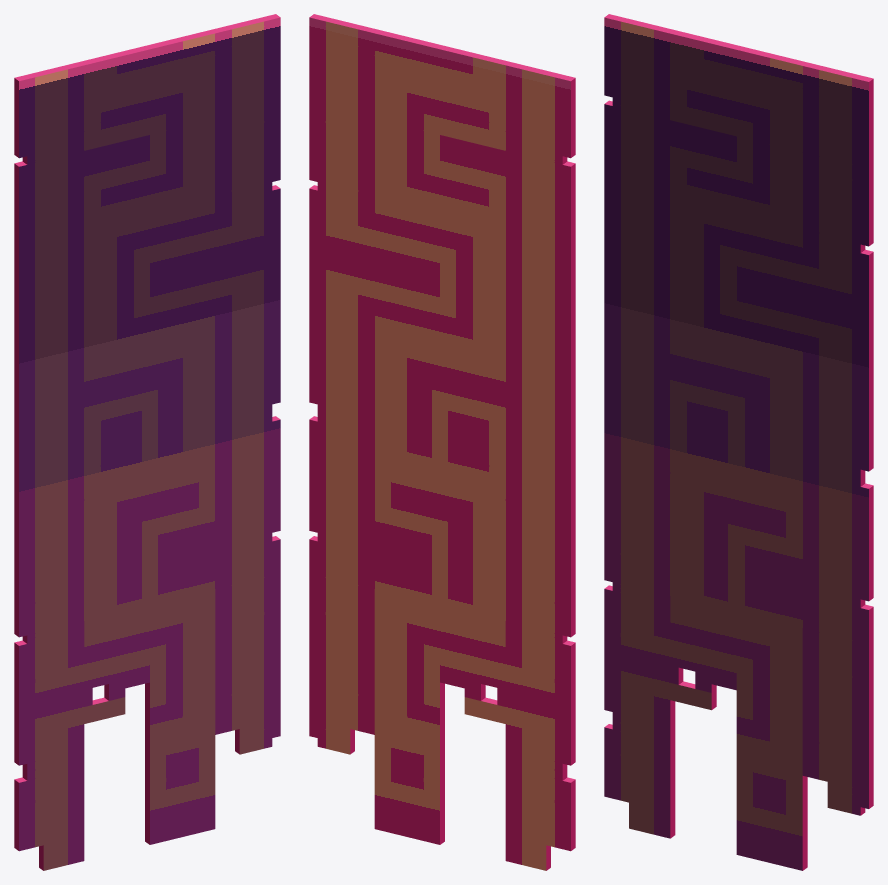
File: pyramid_banner_torn_aao.fezao.glb
The picture shows the model from 3 angles, left to right: view 1: azimuth 30°, elevation 25°; view 2: azimuth 150°, elevation 25°; view 3: azimuth 330°, elevation 25°; orthographic projection.
Parts seen in each view (by area): view 1: PYRAMID_BANNER_TORN_AAO; view 2: PYRAMID_BANNER_TORN_AAO; view 3: PYRAMID_BANNER_TORN_AAO.
Boxes of the visible parts, box(x1,y1,x2,y2) form: PYRAMID_BANNER_TORN_AAO: box(14, 14, 280, 870); PYRAMID_BANNER_TORN_AAO: box(309, 14, 575, 870); PYRAMID_BANNER_TORN_AAO: box(604, 14, 873, 870).
Bounding box in the file's own units: 2 × 5.81 × 0.0625.
1 material, 1 textured.
